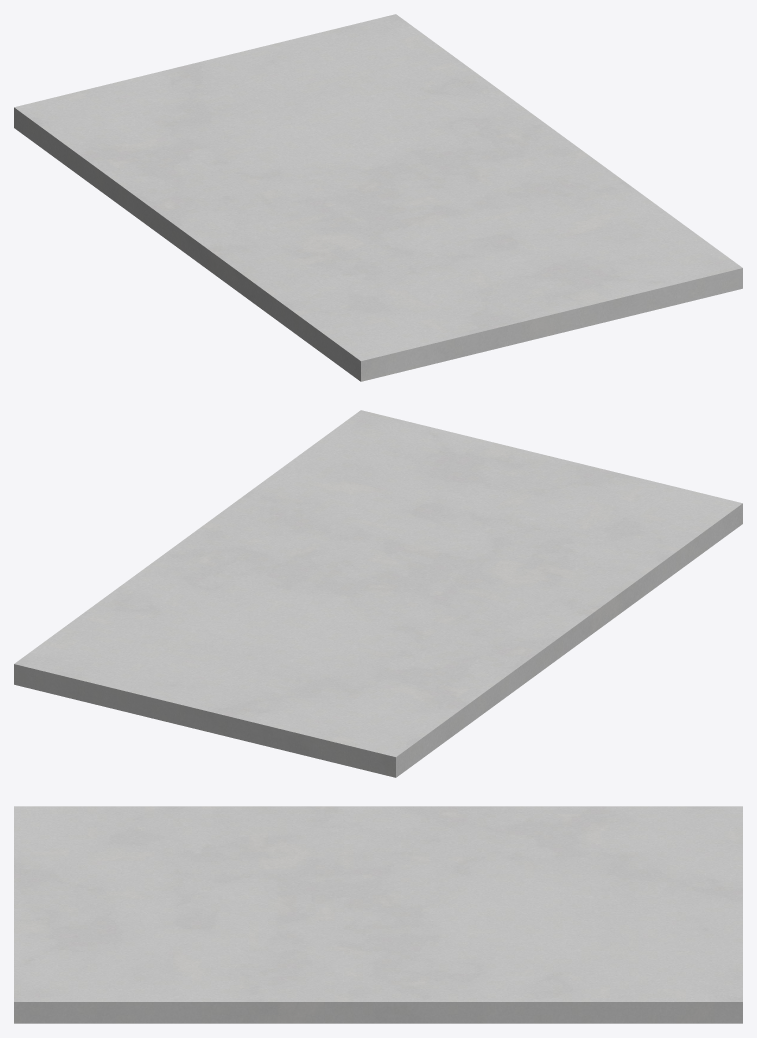
File: CeilingFloor1.fbx
3 views of the same model, one above another, from view 1: azimuth 30°, elevation 25°; view 2: azimuth 150°, elevation 25°; view 3: azimuth 270°, elevation 25° (orthographic). The views are drawn at different scales.
Visible parts, largest first — view 1: Kitchen_BackWall.001; view 2: Kitchen_BackWall.001; view 3: Kitchen_BackWall.001.
Part boxes in pixels (box(x1,y1,x2,y2)): Kitchen_BackWall.001: box(14, 14, 742, 381); Kitchen_BackWall.001: box(14, 410, 742, 777); Kitchen_BackWall.001: box(14, 806, 742, 1023).
Bounding box in the file's own units: 450 × 23.26 × 708.
1 material, 1 textured.
